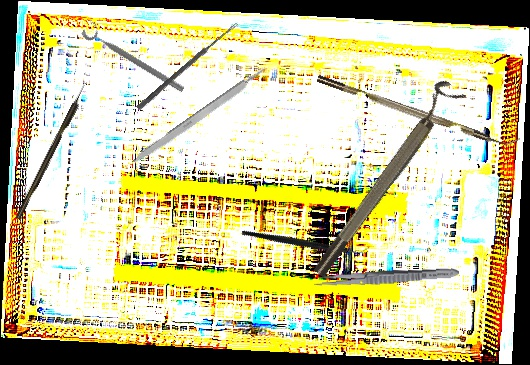Chopper: (316, 65, 521, 154), (240, 187, 371, 295)
Dressing Forceps: (313, 264, 460, 291)
Fixation Ring: (301, 76, 467, 281), (80, 18, 190, 96)
Hook Surgical: (14, 83, 89, 221)
Scalpel Handle: (130, 67, 267, 168)
Surgical Spoon: (136, 20, 239, 112)
